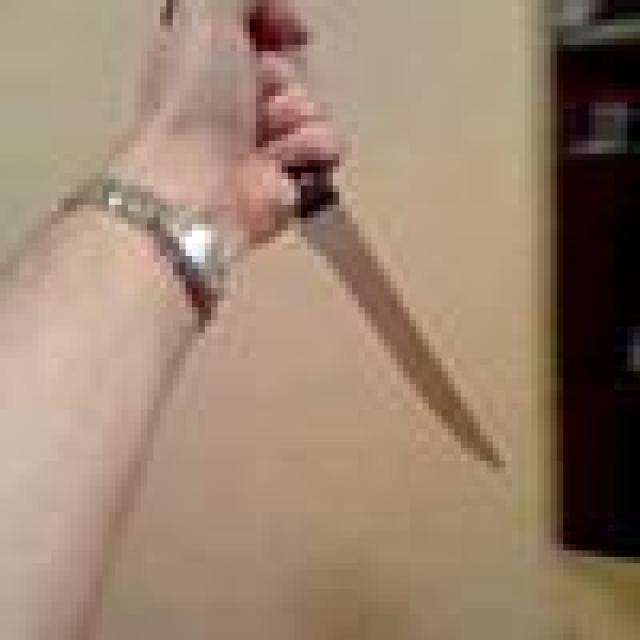knife: (283, 158, 505, 480)
